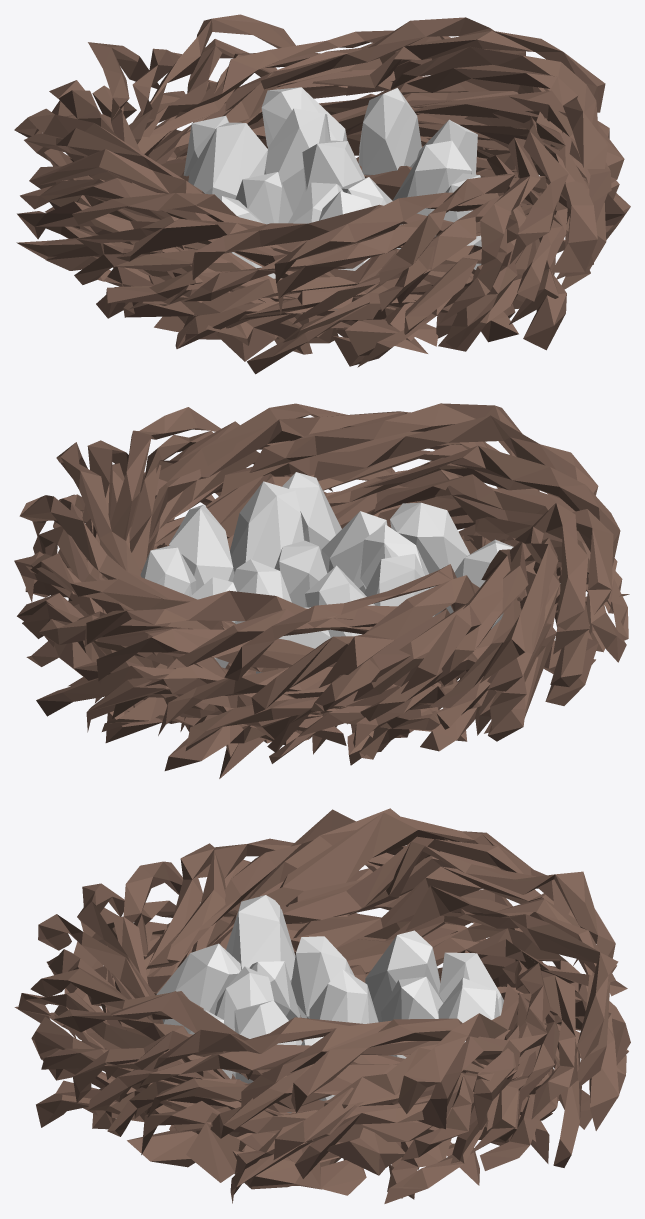
Rendered from Nest_05.fbx.
3 views of the same model, one above another, from view 1: azimuth 30°, elevation 25°; view 2: azimuth 150°, elevation 25°; view 3: azimuth 270°, elevation 25° (orthographic). The views are drawn at different scales.
Visible parts, largest first — view 1: Nest_05_LOD0; view 2: Nest_05_LOD0; view 3: Nest_05_LOD0.
Boxes of the visible parts, <box> form: Nest_05_LOD0: <box>14,14,630,374</box>; Nest_05_LOD0: <box>14,403,629,778</box>; Nest_05_LOD0: <box>14,808,630,1203</box>.
Size of what is drawn, in the model's own units: 48.7 by 19.34 by 48.65.
